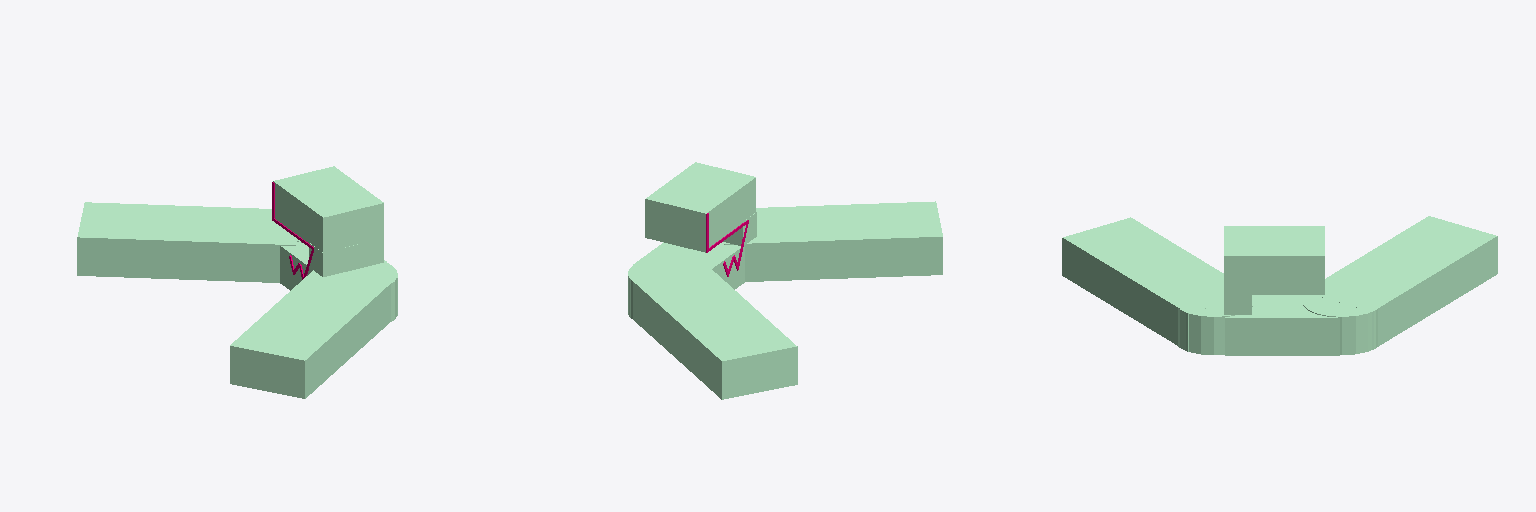
3 views of the same model, side by side, from view 1: azimuth 30°, elevation 25°; view 2: azimuth 150°, elevation 25°; view 3: azimuth 270°, elevation 25° (orthographic).
Visible parts, largest first — view 1: Box005, Box002, Box004, Box003, Box001; view 2: Box002, Box005, Box004, Box001, Cylinder002; view 3: Box005, Box002, Box004, Box001, Cylinder002, Cylinder001, Box003.
Boxes of the visible parts, x1,y1,x2,y2 form: Box005: [77, 202, 296, 282]; Box002: [230, 269, 397, 398]; Box004: [273, 166, 383, 252]; Box003: [309, 238, 383, 276]; Box001: [280, 242, 386, 290]; Box002: [724, 201, 942, 281]; Box005: [629, 263, 797, 399]; Box004: [645, 162, 755, 252]; Box001: [636, 242, 744, 289]; Cylinder002: [628, 255, 694, 318]; Box005: [1316, 216, 1497, 349]; Box002: [1062, 217, 1223, 351]; Box004: [1224, 226, 1324, 294]; Box001: [1225, 295, 1339, 355]; Cylinder002: [1303, 295, 1377, 354]; Cylinder001: [1178, 300, 1252, 354]; Box003: [1224, 295, 1251, 314].
Size of the model in its own units: 123 by 55.44 by 223.
2 materials, 2 textured.